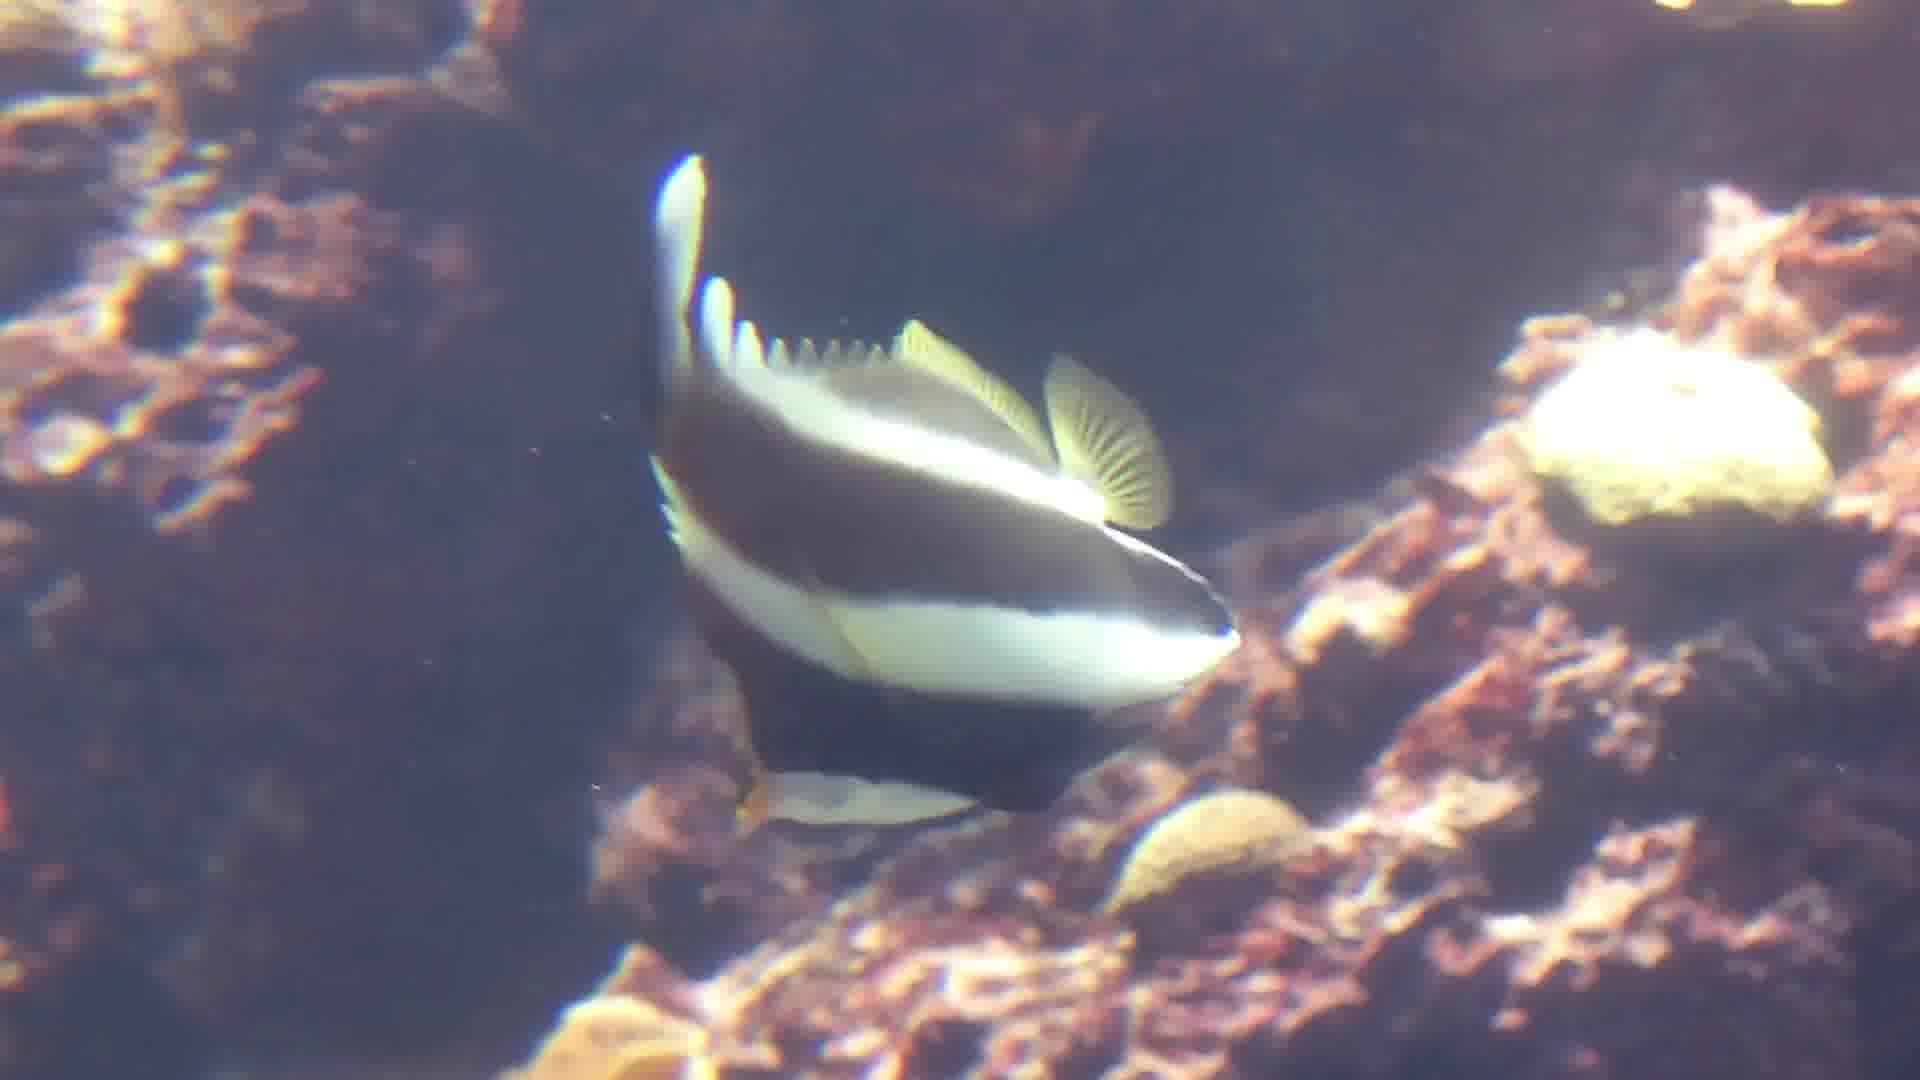Heniochus chrysostomus: (593, 53, 1275, 891)
